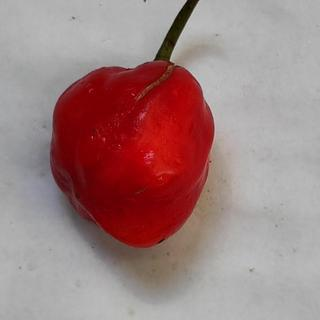striped: (131, 61, 184, 108)
